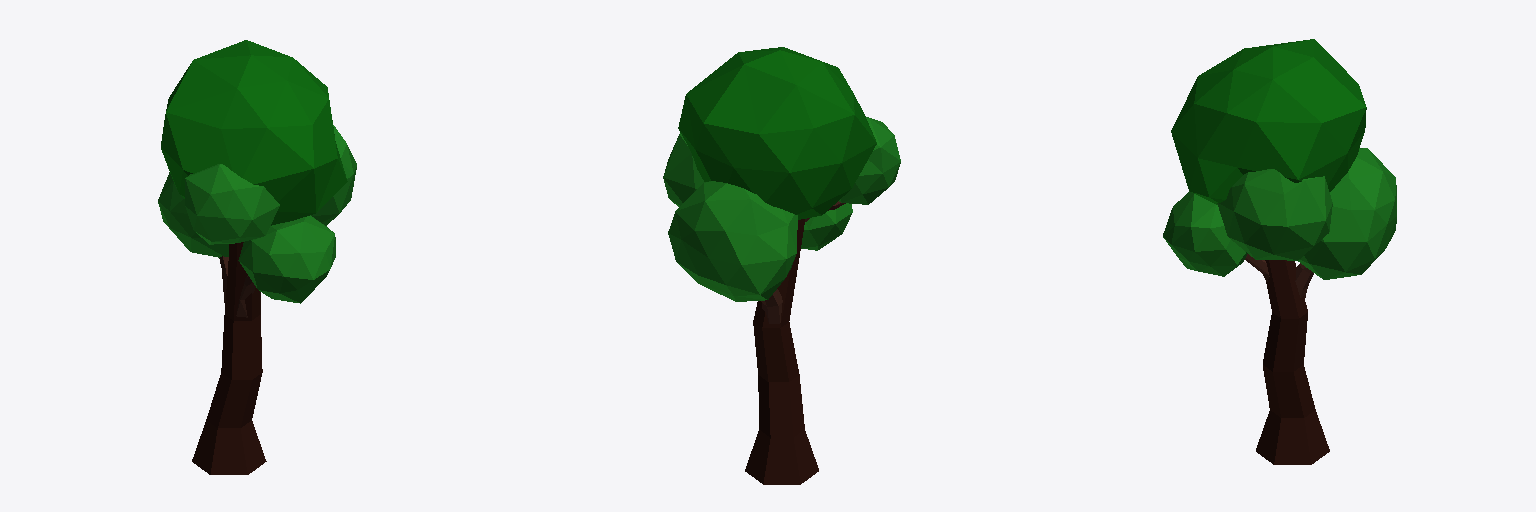
The model's file is Tree.obj.
3 views of the same model, side by side, from view 1: azimuth 30°, elevation 25°; view 2: azimuth 150°, elevation 25°; view 3: azimuth 270°, elevation 25° (orthographic).
Parts seen in each view (by area): view 1: Icosphere.005_Icosphere.007, Cylinder.006_Cylinder.008, Icosphere.007_Icosphere.009, Icosphere.003_Icosphere.005, Icosphere.006_Icosphere.008, Icosphere.004_Icosphere.006; view 2: Icosphere.005_Icosphere.007, Icosphere.006_Icosphere.008, Cylinder.006_Cylinder.008, Icosphere.003_Icosphere.005, Icosphere.004_Icosphere.006, Icosphere.007_Icosphere.009; view 3: Icosphere.005_Icosphere.007, Cylinder.006_Cylinder.008, Icosphere.004_Icosphere.006, Icosphere.006_Icosphere.008, Icosphere.007_Icosphere.009.
Part boxes in pixels (bbox=[...]): Icosphere.005_Icosphere.007: bbox=[161, 40, 347, 225]; Cylinder.006_Cylinder.008: bbox=[192, 242, 266, 474]; Icosphere.007_Icosphere.009: bbox=[238, 215, 335, 303]; Icosphere.003_Icosphere.005: bbox=[185, 164, 279, 244]; Icosphere.006_Icosphere.008: bbox=[158, 172, 228, 257]; Icosphere.004_Icosphere.006: bbox=[311, 125, 356, 225]; Icosphere.005_Icosphere.007: bbox=[678, 47, 876, 219]; Icosphere.006_Icosphere.008: bbox=[668, 181, 797, 301]; Cylinder.006_Cylinder.008: bbox=[745, 219, 818, 484]; Icosphere.003_Icosphere.005: bbox=[839, 117, 900, 204]; Icosphere.004_Icosphere.006: bbox=[663, 133, 704, 206]; Icosphere.007_Icosphere.009: bbox=[801, 203, 852, 250]; Icosphere.005_Icosphere.007: bbox=[1171, 39, 1366, 204]; Cylinder.006_Cylinder.008: bbox=[1256, 260, 1329, 464]; Icosphere.004_Icosphere.006: bbox=[1217, 169, 1332, 260]; Icosphere.006_Icosphere.008: bbox=[1298, 148, 1396, 279]; Icosphere.007_Icosphere.009: bbox=[1163, 191, 1247, 276].
Bounding box in the file's own units: 14.09 × 28.81 × 14.94.